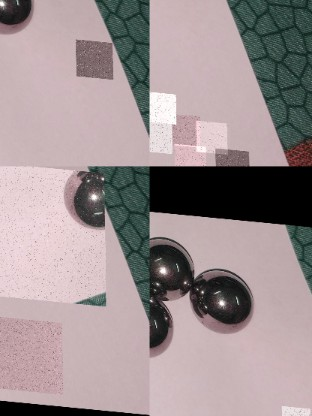ironball: (0, 166, 105, 302), (192, 261, 255, 338), (0, 313, 61, 391), (147, 231, 194, 301), (146, 296, 182, 363), (0, 0, 39, 40), (75, 35, 112, 75), (194, 116, 226, 150), (169, 110, 199, 143), (149, 88, 175, 121), (173, 140, 204, 166), (214, 143, 248, 166), (149, 118, 171, 150), (280, 402, 309, 415)
